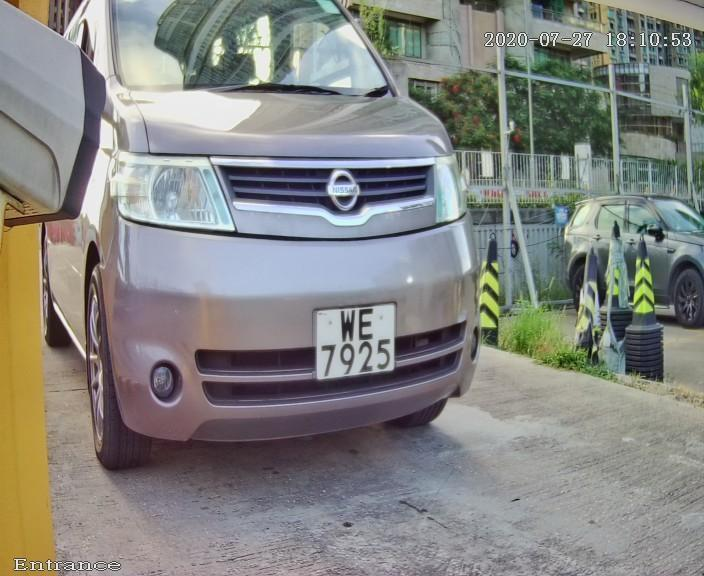privatecar: (41, 11, 535, 466)
